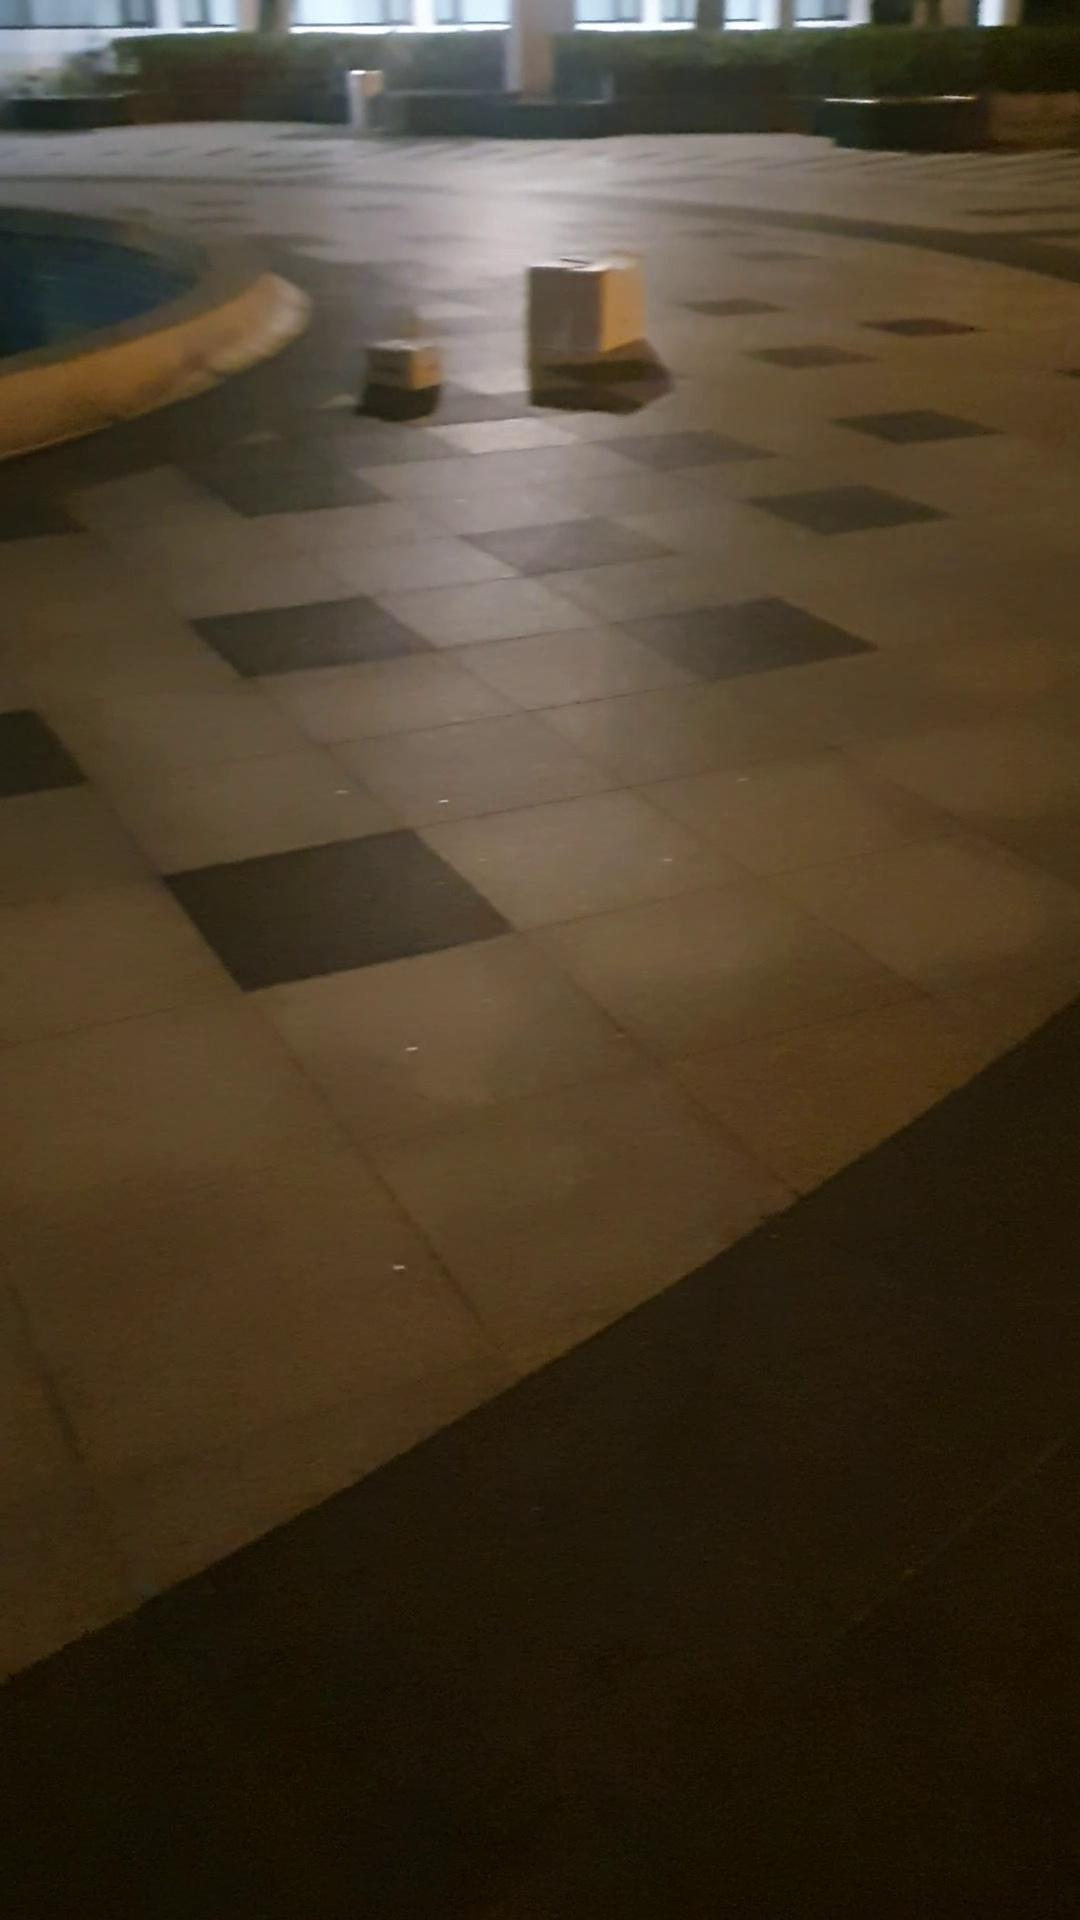Box: (524, 243, 657, 372), (351, 328, 448, 400)
